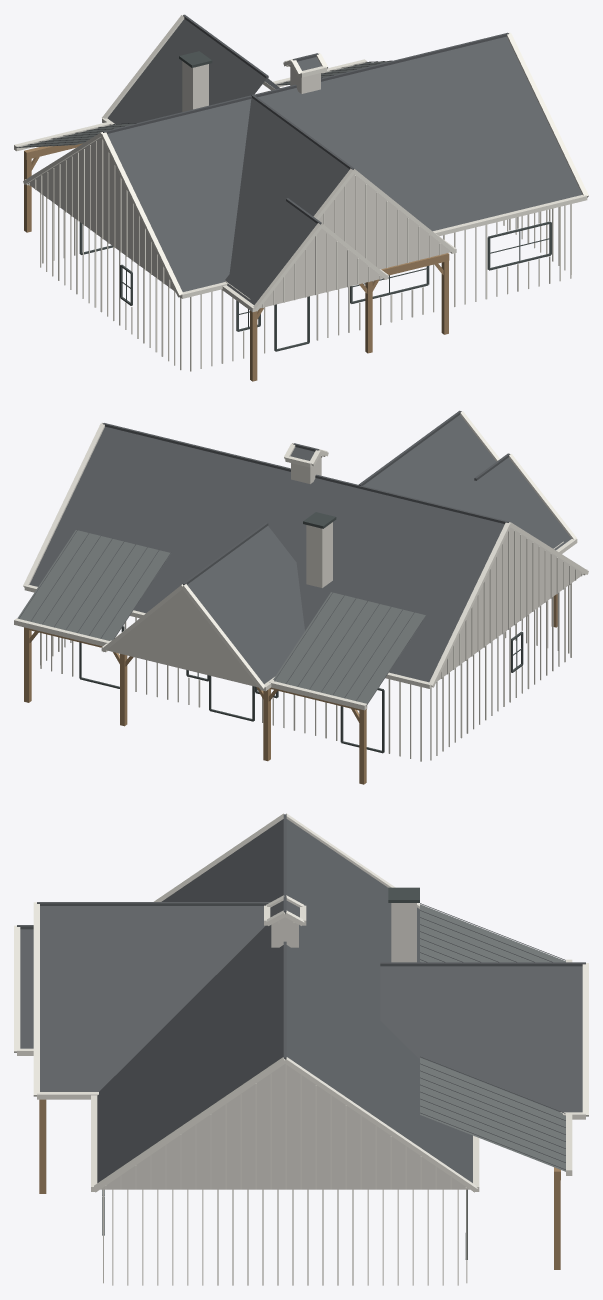
File: exterior-r08.glb
3 views of the same model, one above another, from view 1: azimuth 30°, elevation 25°; view 2: azimuth 150°, elevation 25°; view 3: azimuth 270°, elevation 25° (orthographic). The views are drawn at different scales.
Visible parts, largest first — view 1: EX_roof_Exterior_roof, EX_roof_Exterior_wall, EX_roof_Exterior_trim, EX_facade_Exterior_trim, EX_trim_Exterior_timber, EX_facade_Exterior_frame, EX_roof_Exterior_metal; view 2: EX_roof_Exterior_roof, EX_roof_Exterior_metal, EX_roof_Exterior_wall, EX_roof_Exterior_trim, EX_facade_Exterior_trim, EX_trim_Exterior_timber, EX_facade_Exterior_frame; view 3: EX_roof_Exterior_roof, EX_roof_Exterior_wall, EX_roof_Exterior_trim, EX_roof_Exterior_metal, EX_facade_Exterior_trim, EX_trim_Exterior_timber.
Part boxes in pixels (x1,y1,x2,y2): EX_roof_Exterior_roof: (15, 15, 582, 304); EX_roof_Exterior_wall: (27, 61, 451, 308); EX_roof_Exterior_trim: (14, 14, 588, 312); EX_facade_Exterior_trim: (40, 193, 571, 371); EX_trim_Exterior_timber: (24, 143, 449, 381); EX_facade_Exterior_frame: (79, 221, 551, 351); EX_roof_Exterior_metal: (17, 61, 389, 147); EX_roof_Exterior_roof: (18, 410, 571, 706); EX_roof_Exterior_metal: (17, 530, 426, 704); EX_roof_Exterior_wall: (106, 454, 584, 687); EX_roof_Exterior_trim: (14, 410, 588, 710); EX_facade_Exterior_trim: (40, 583, 571, 761); EX_trim_Exterior_timber: (24, 594, 557, 784); EX_facade_Exterior_frame: (79, 625, 523, 753); EX_roof_Exterior_roof: (17, 814, 585, 1182); EX_roof_Exterior_wall: (100, 903, 469, 1189); EX_roof_Exterior_trim: (14, 813, 588, 1192); EX_roof_Exterior_metal: (420, 904, 565, 1171); EX_facade_Exterior_trim: (103, 1189, 467, 1285); EX_trim_Exterior_timber: (39, 1099, 560, 1269).
Size of the model in its own units: 14.74 by 7.41 by 14.56.
